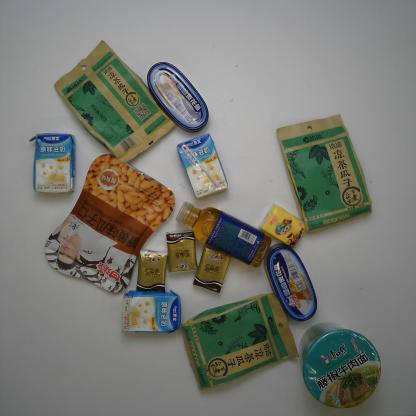Canned Food: (147, 61, 210, 132), (264, 244, 318, 322)
Dried Food: (54, 40, 177, 166), (273, 113, 373, 234), (180, 292, 299, 389)
Dried Fruit: (43, 153, 175, 295)
Drink: (174, 202, 268, 268)
Instant Noodles: (296, 322, 383, 408)
Milk: (178, 132, 226, 198), (30, 131, 76, 196), (120, 291, 183, 335)
Tissue: (261, 204, 306, 245), (192, 248, 232, 291), (165, 232, 199, 275), (135, 250, 169, 292)
